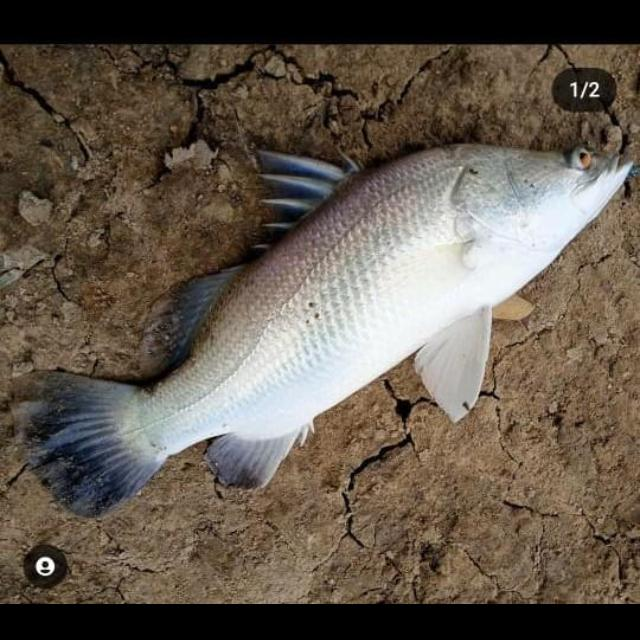Seabass: (12, 145, 630, 520)
